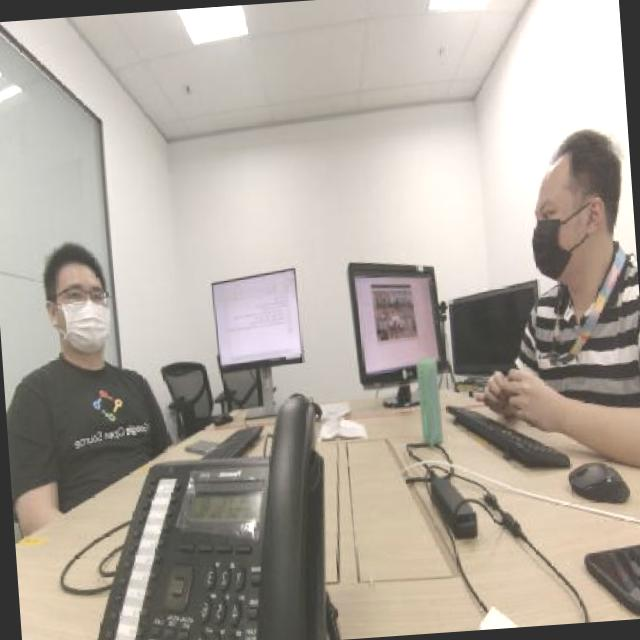Person: (498, 97, 640, 417), (0, 183, 150, 472)
